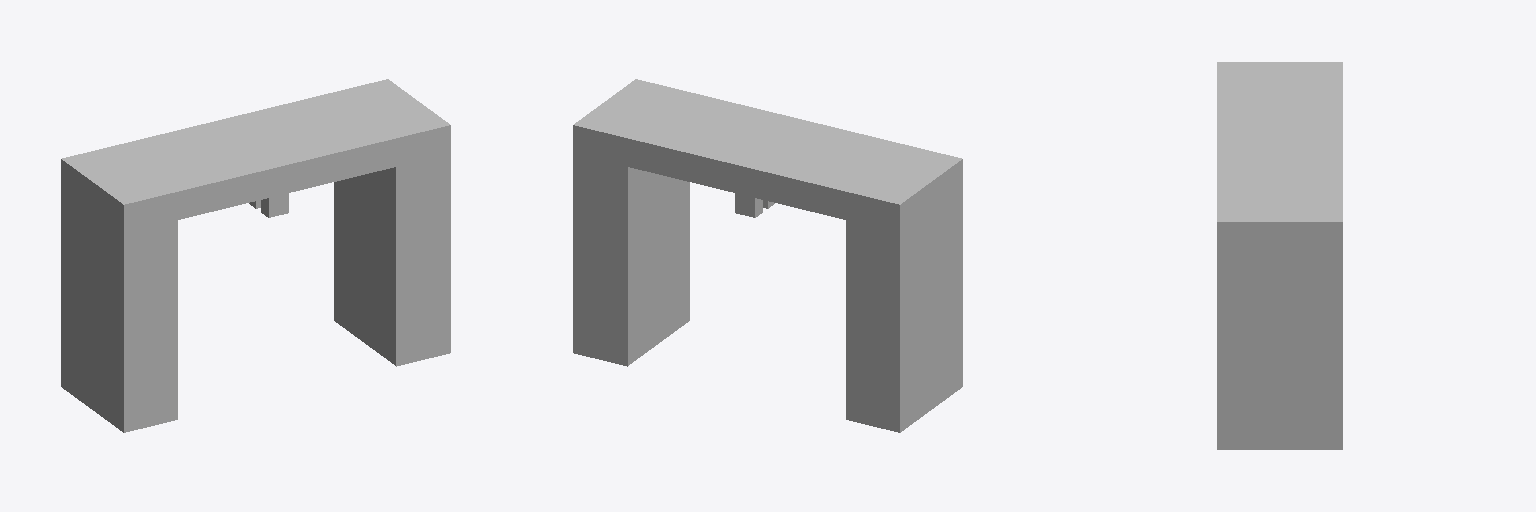
The model's file is four_electrodes.obj.
The picture shows the model from 3 angles: view 1: azimuth 30°, elevation 25°; view 2: azimuth 150°, elevation 25°; view 3: azimuth 270°, elevation 25°; orthographic projection.
Visible parts, largest first — view 1: Electrodes4_Cube.010; view 2: Electrodes4_Cube.010; view 3: Electrodes4_Cube.010.
Boxes of the visible parts, box(x1,y1,x2,y2) form: Electrodes4_Cube.010: box(61, 79, 450, 432); Electrodes4_Cube.010: box(573, 79, 962, 432); Electrodes4_Cube.010: box(1217, 62, 1342, 449).
Size of the model in its own units: 3 by 2 by 1.